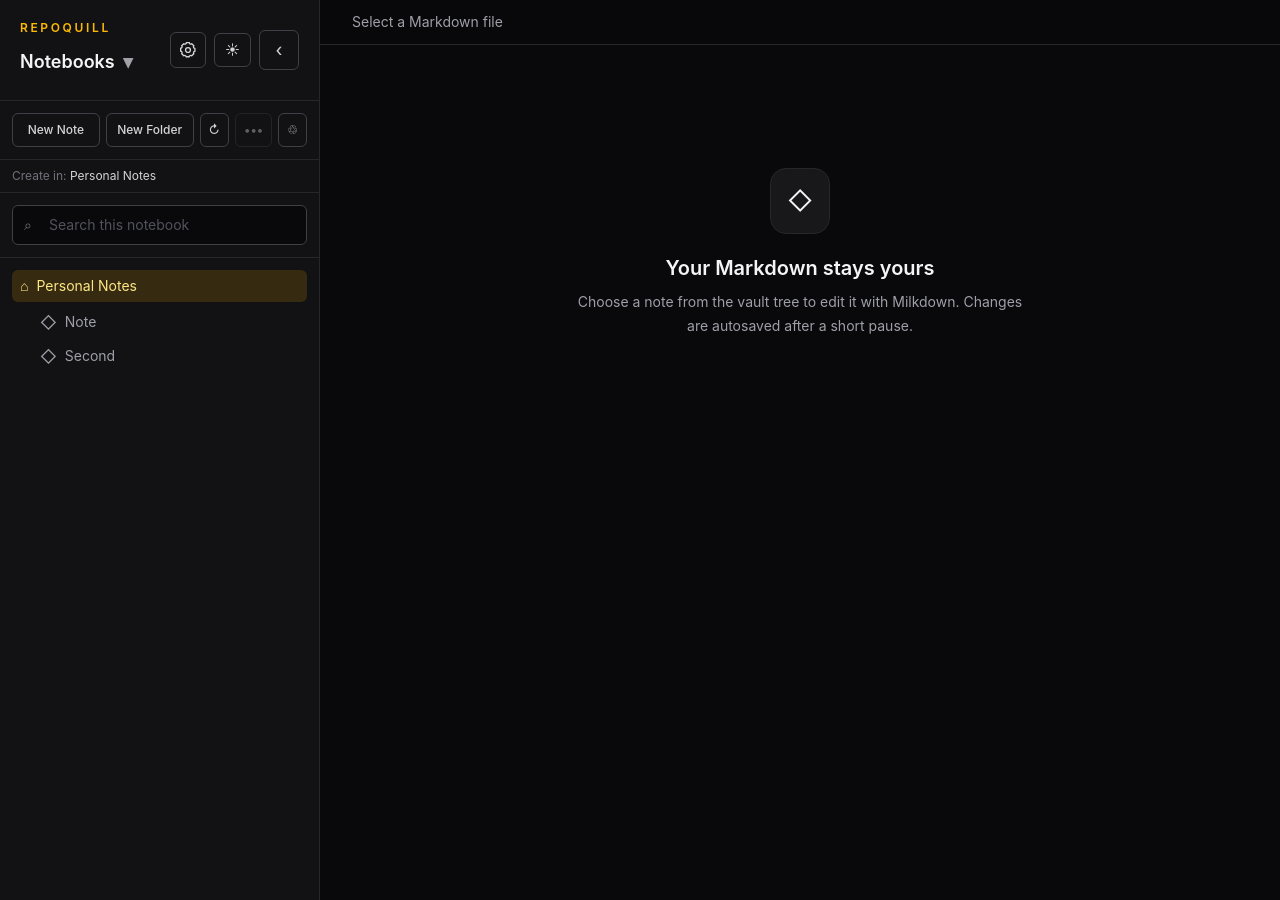
Test: App auto-lock integration › unregisters an inactive legacy notebook without presenting file deletion
expect the button "⌂ Personal Notes" is shown: met, box x1=12 y1=270 x2=307 y2=302
What coordinates should you click on to do the following:
click the button "▾"
I would click on:
 (81, 62)
Its box is x1=20 y1=44 x2=142 y2=80.
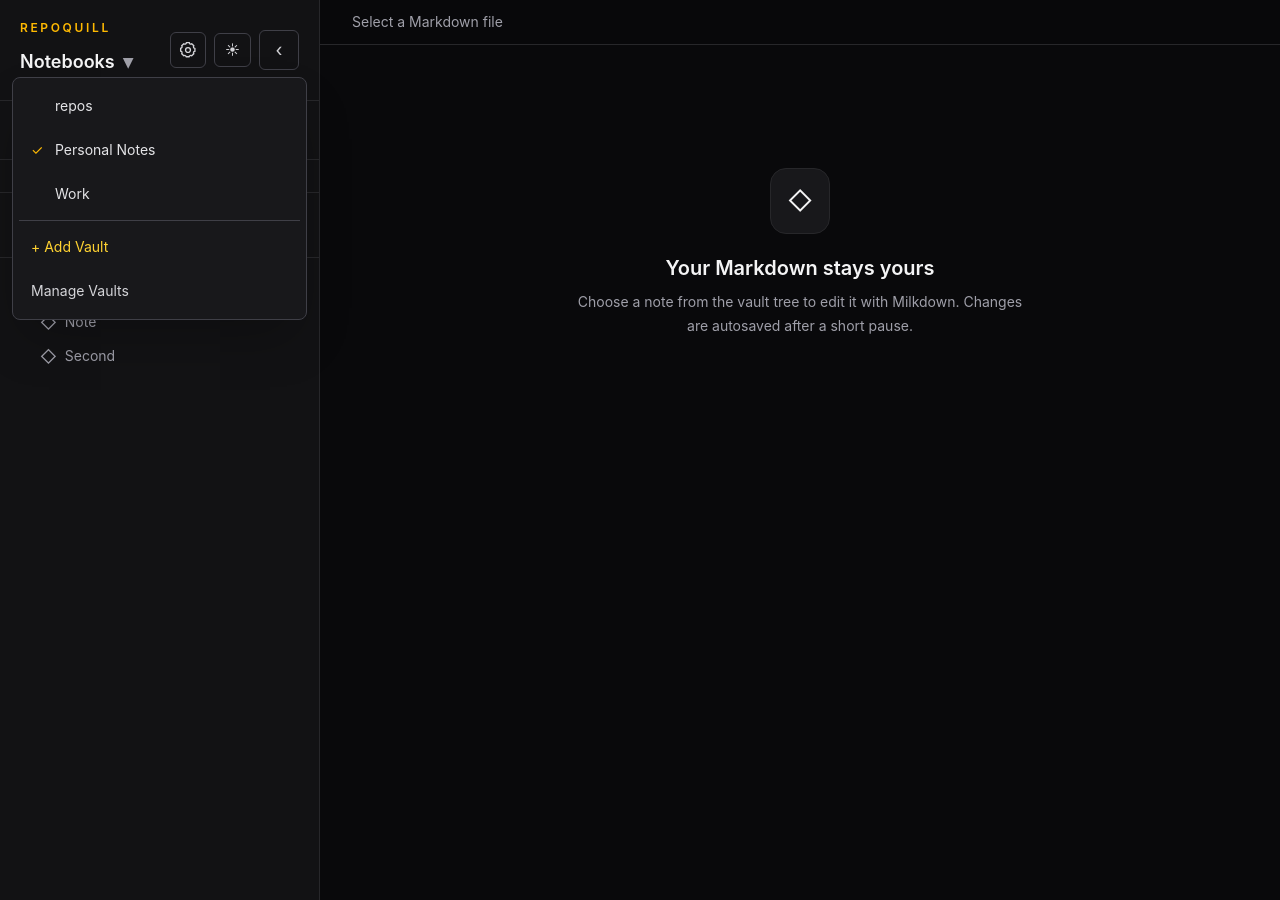
What coordinates should you click on to do the following:
click the menu item "Manage Vaults"
I would click on:
 (80, 290)
Its box is x1=19 y1=269 x2=300 y2=313.
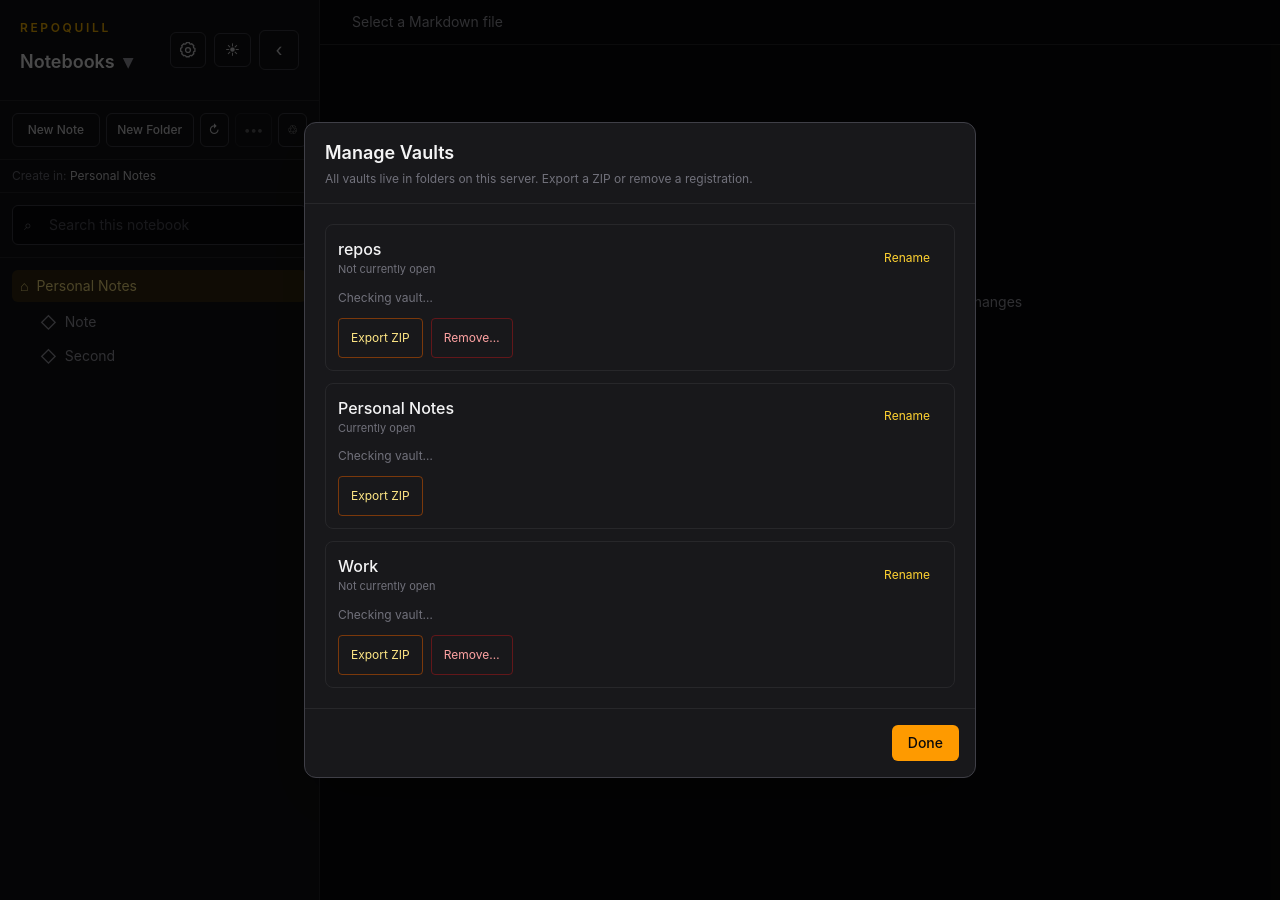
What coordinates should you click on to do the following:
click the button "Remove…" below "repos"
I would click on:
 (472, 338)
Its box is x1=431 y1=318 x2=513 y2=358.
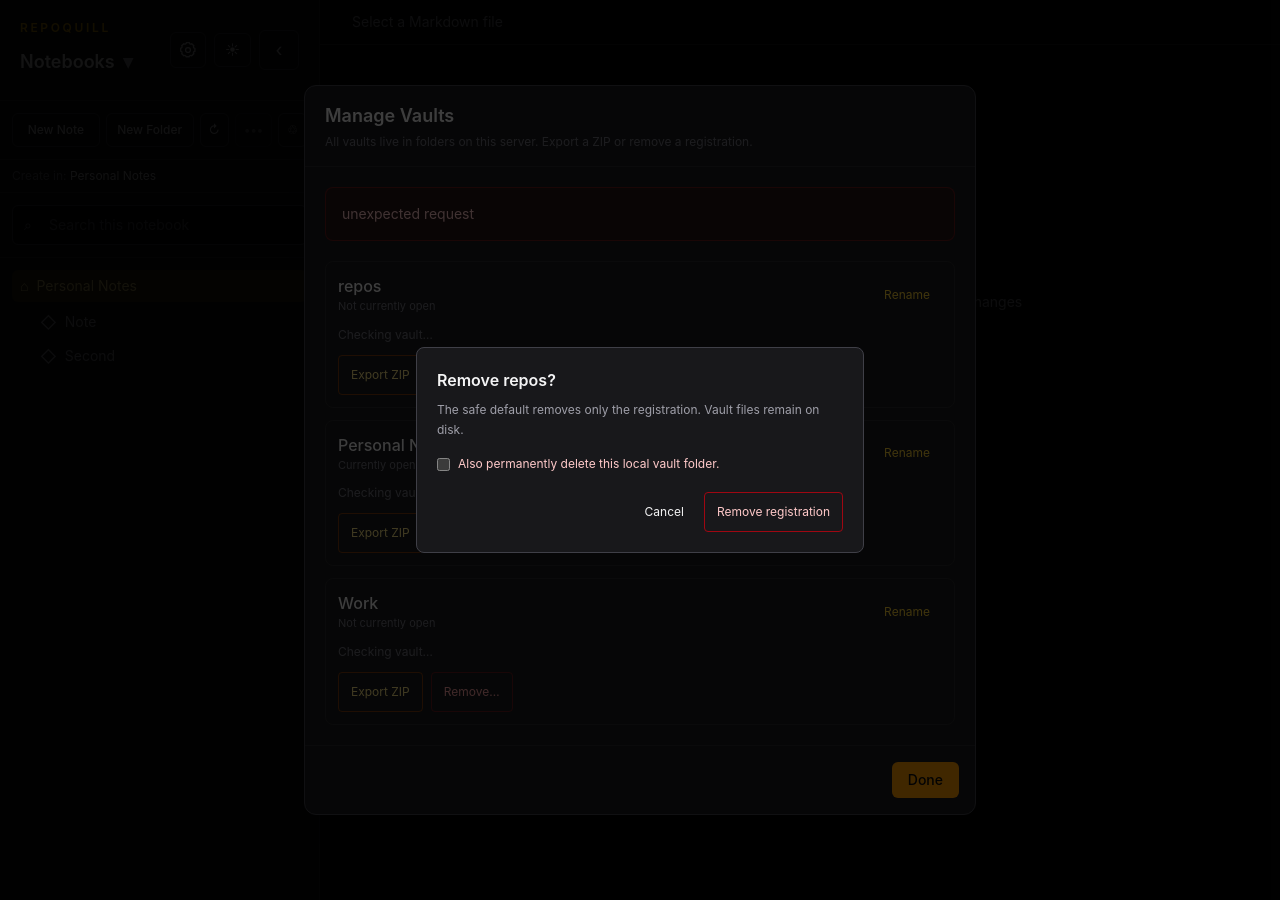
What coordinates should you click on to do the following:
click the button "Remove registration"
I would click on:
 (773, 512)
Its box is x1=704 y1=492 x2=843 y2=532.
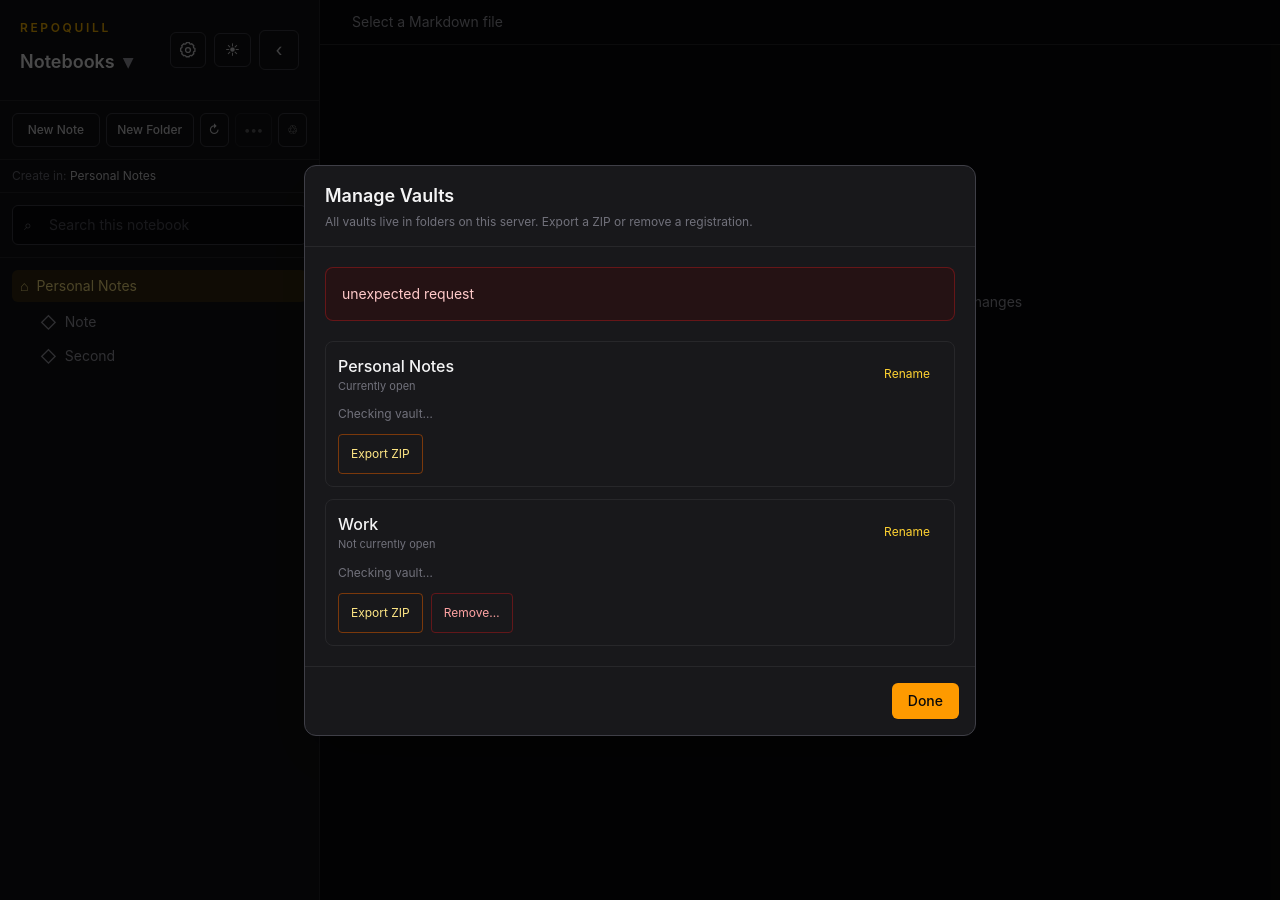
expect the heading "repos" is gone: met
